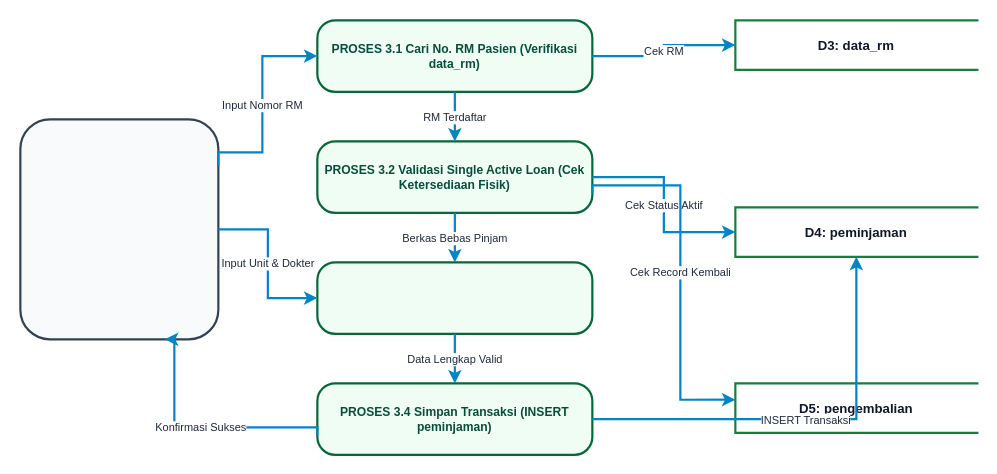
The diagram is 997 pixels wide and 474 high, and some of its shapes have lost their labels. Here are the shapes that lost their labels. From the top down, the box of each, then its label:
(19, 118, 219, 340): [Operator Filing] Petugas Rekam Medis
(316, 261, 593, 334): PROSES 3.3 Validasi Formulir (Unit (22 opsi), Waktu, Dokter)
